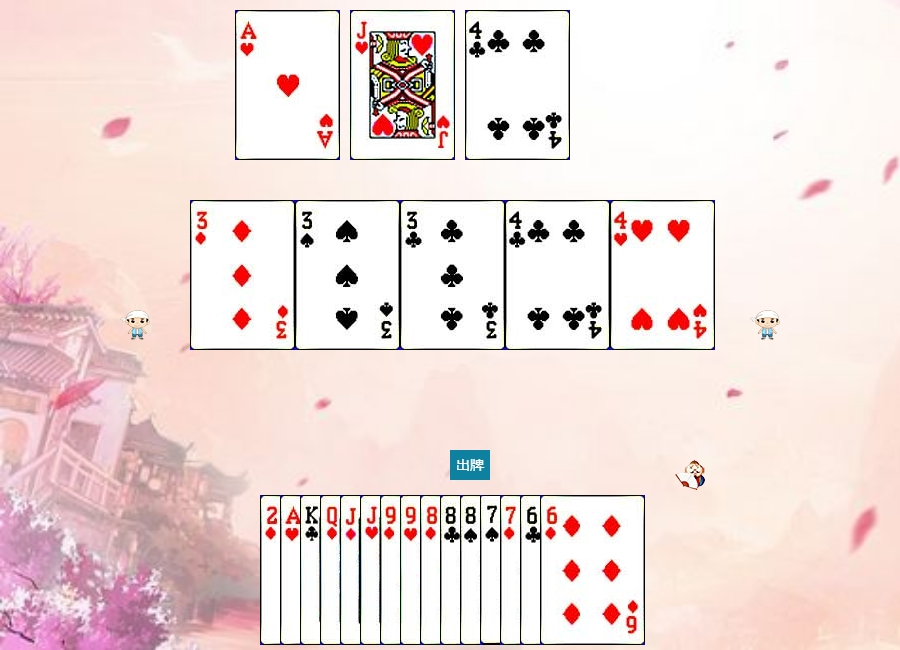11~1: (340, 495, 445, 645)
11~3: (350, 10, 455, 160), (360, 495, 465, 645)
12~1: (320, 495, 425, 645)
13~2: (300, 495, 405, 645)
14~3: (235, 10, 340, 160), (280, 495, 385, 645)
15~1: (260, 495, 365, 645)
3~1: (190, 200, 295, 350)
3~2: (400, 200, 505, 350)
3~4: (295, 200, 400, 350)
4~2: (465, 10, 570, 160), (505, 200, 610, 350)
4~3: (610, 200, 715, 350)
6~1: (540, 495, 645, 645)
6~2: (520, 495, 625, 645)
7~1: (500, 495, 605, 645)
7~4: (480, 495, 585, 645)
8~1: (420, 495, 525, 645)
8~2: (440, 495, 545, 645)
8~4: (460, 495, 565, 645)
9~1: (380, 495, 485, 645)
9~3: (400, 495, 505, 645)
